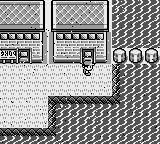captura: (112, 0, 160, 48)
main: (82, 61, 95, 75)
mo: (1, 64, 120, 136)
no-caminable: (1, 64, 160, 143), (52, 1, 109, 63), (1, 1, 44, 63), (112, 49, 159, 63)
puerta: (18, 49, 30, 63), (83, 49, 93, 63)
